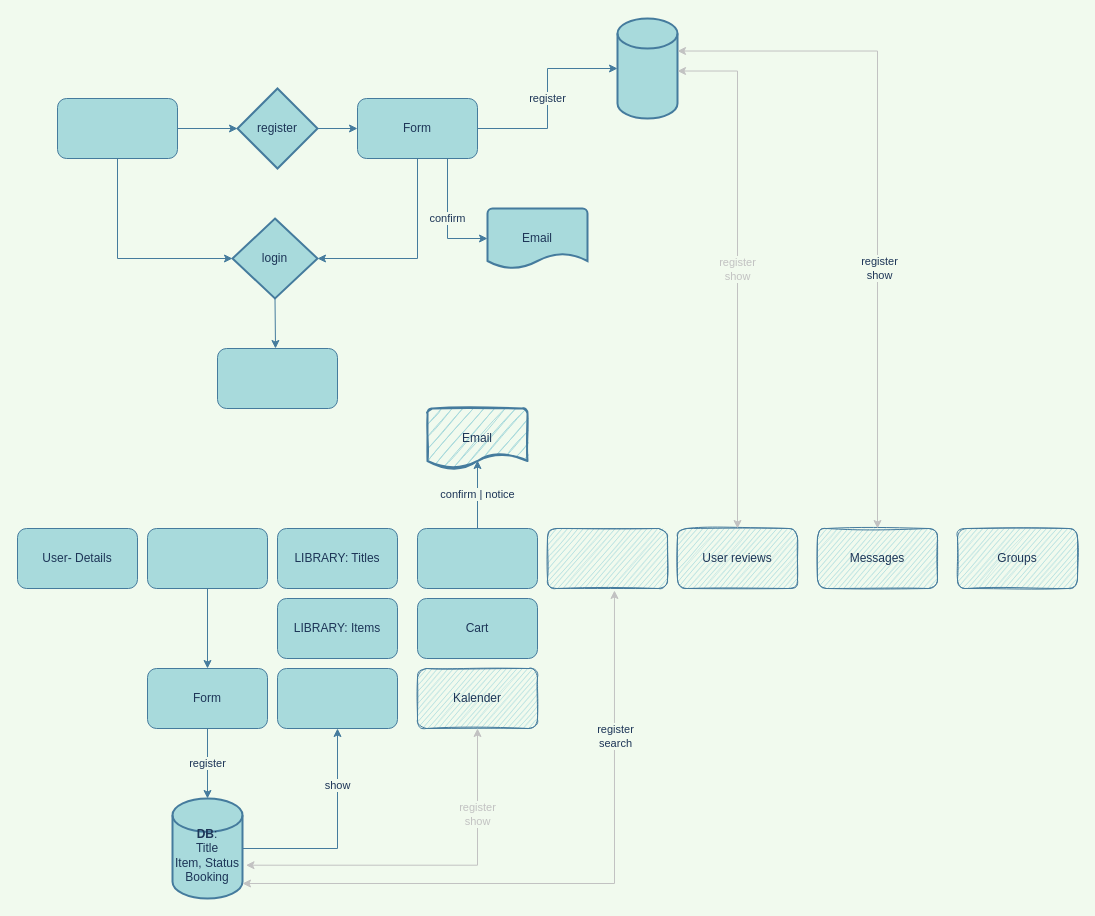
This 1095x916 diagram has some shape labels left out. Here are the shapes that lost their labels. From the top down, the box of each, then its label:
(616, 17, 678, 119): DB User
(56, 98, 178, 158): Home
(216, 348, 338, 408): Dashboard | Home
(146, 528, 268, 588): User Items
(416, 528, 538, 588): Bookings
(546, 528, 668, 588): Wishlist
(276, 668, 398, 728): Show Item
